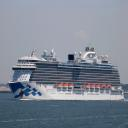cruises: (9, 44, 128, 105)
